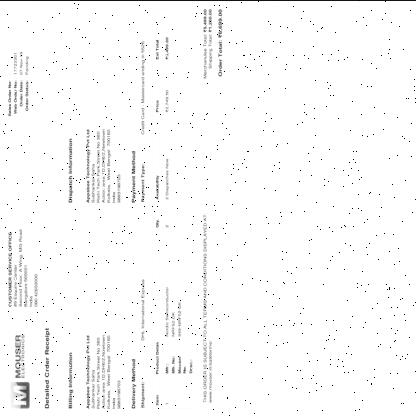Paragraph: (66, 124, 122, 204), (66, 331, 122, 411), (130, 38, 146, 204), (7, 227, 39, 308), (130, 276, 146, 410), (202, 211, 213, 404), (6, 49, 30, 117), (202, 7, 224, 79), (43, 325, 52, 409), (14, 331, 26, 379)
Table: (151, 8, 197, 408)
